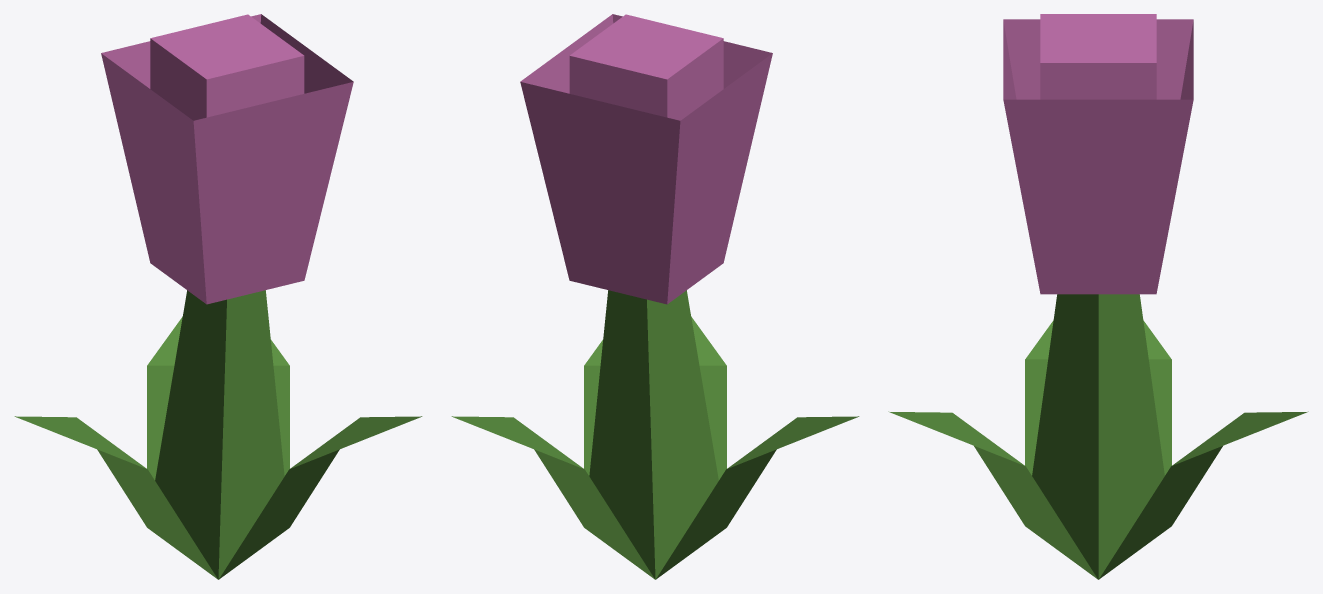
The model's file is flowers.glb.
3 views of the same model, side by side, from view 1: azimuth 30°, elevation 25°; view 2: azimuth 150°, elevation 25°; view 3: azimuth 270°, elevation 25° (orthographic). The views are drawn at different scales.
Parts seen in each view (by area): view 1: flower_purpleA; view 2: flower_purpleA; view 3: flower_purpleA.
Boxes of the visible parts, box(x1,y1,x2,y2) form: flower_purpleA: box(14, 14, 422, 579); flower_purpleA: box(451, 14, 859, 579); flower_purpleA: box(888, 14, 1308, 579).
Bounding box in the file's own units: 0.6561 × 1 × 0.7466.
